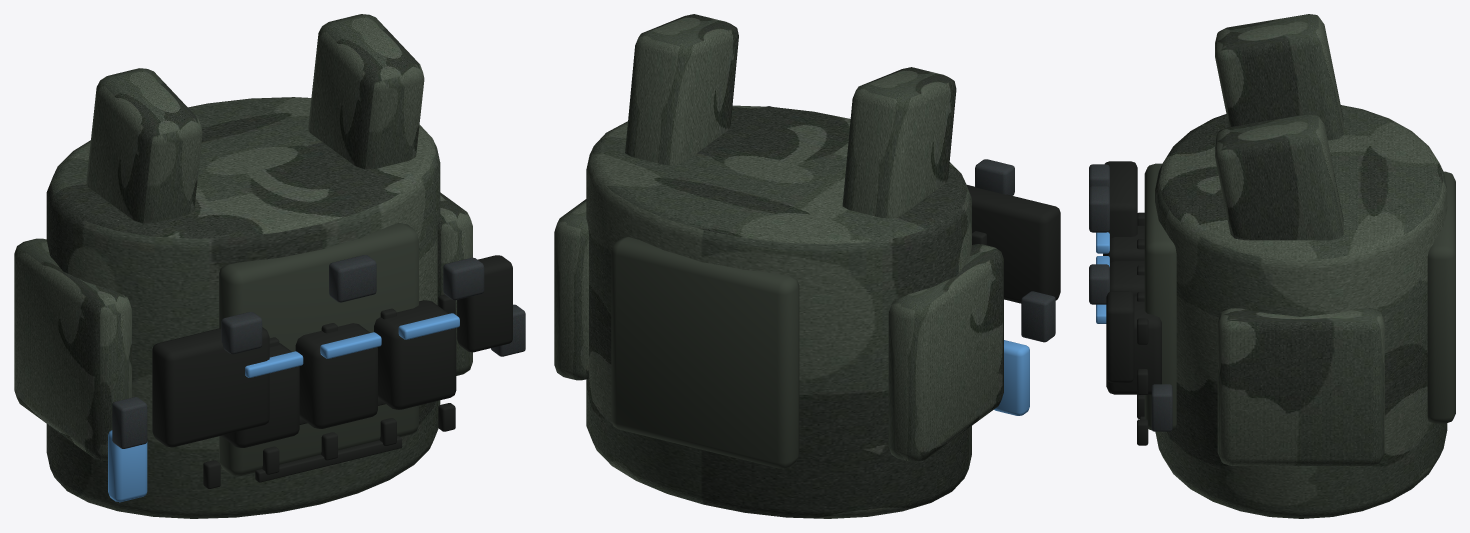
Rendered from gear_armor_6b23.glb.
3 views of the same model, side by side, from view 1: azimuth 30°, elevation 25°; view 2: azimuth 150°, elevation 25°; view 3: azimuth 270°, elevation 25° (orthographic). The views are drawn at different scales.
Parts seen in each view (by area): view 1: Gear; view 2: Gear; view 3: Gear.
Part boxes in pixels (x1,y1,x2,y2): Gear: (14, 14, 525, 518); Gear: (554, 14, 1060, 518); Gear: (1089, 14, 1455, 518).
Bounding box in the file's own units: 0.62 × 0.5892 × 0.5275.
Materials: 5 (2 with a texture image).
